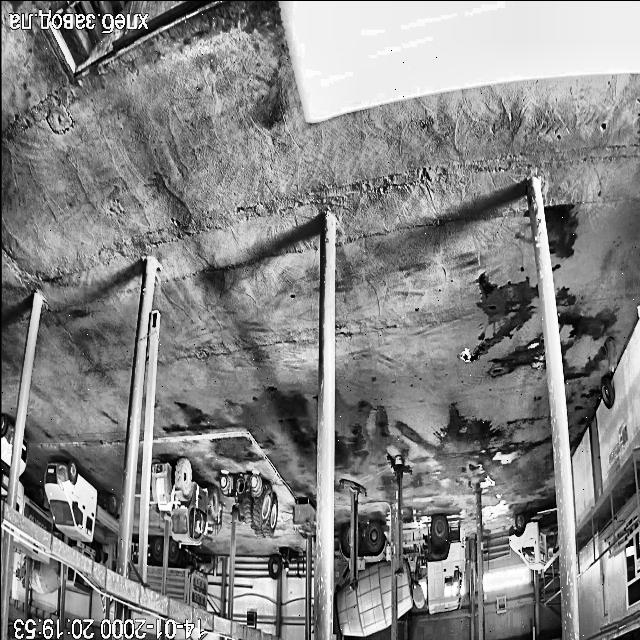class6: (151, 459, 222, 544), (220, 475, 278, 537)
class7: (396, 516, 464, 616), (334, 523, 392, 636), (44, 460, 119, 540), (166, 539, 207, 610), (508, 515, 556, 570), (19, 487, 52, 532), (0, 413, 14, 498), (30, 558, 60, 594), (146, 539, 163, 592), (12, 539, 48, 563), (66, 566, 92, 594), (70, 543, 104, 563), (20, 439, 28, 476), (132, 543, 140, 562), (18, 564, 24, 587), (130, 565, 136, 580)
truck: (387, 454, 411, 574), (340, 479, 366, 588)
